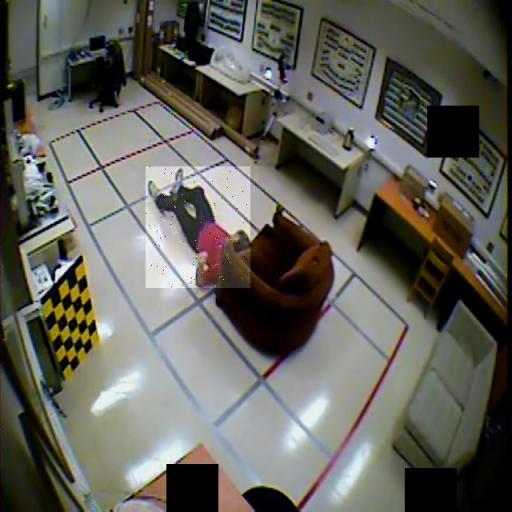Fall: (146, 166, 251, 288)
